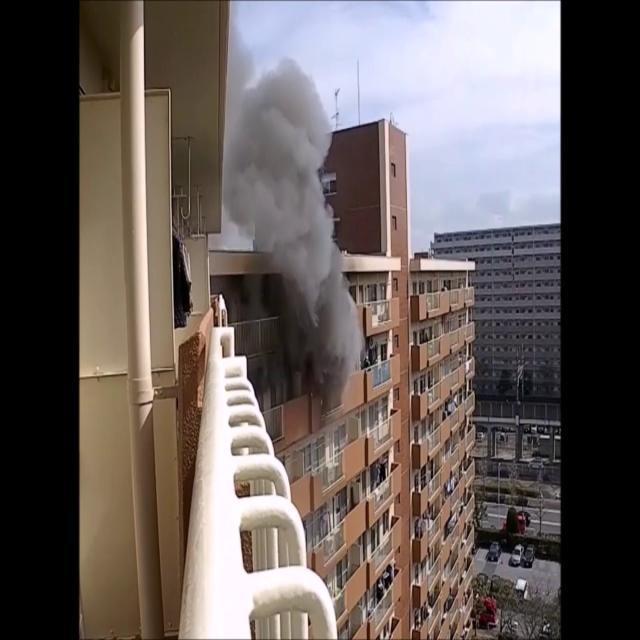Smoke: (220, 37, 360, 399)
